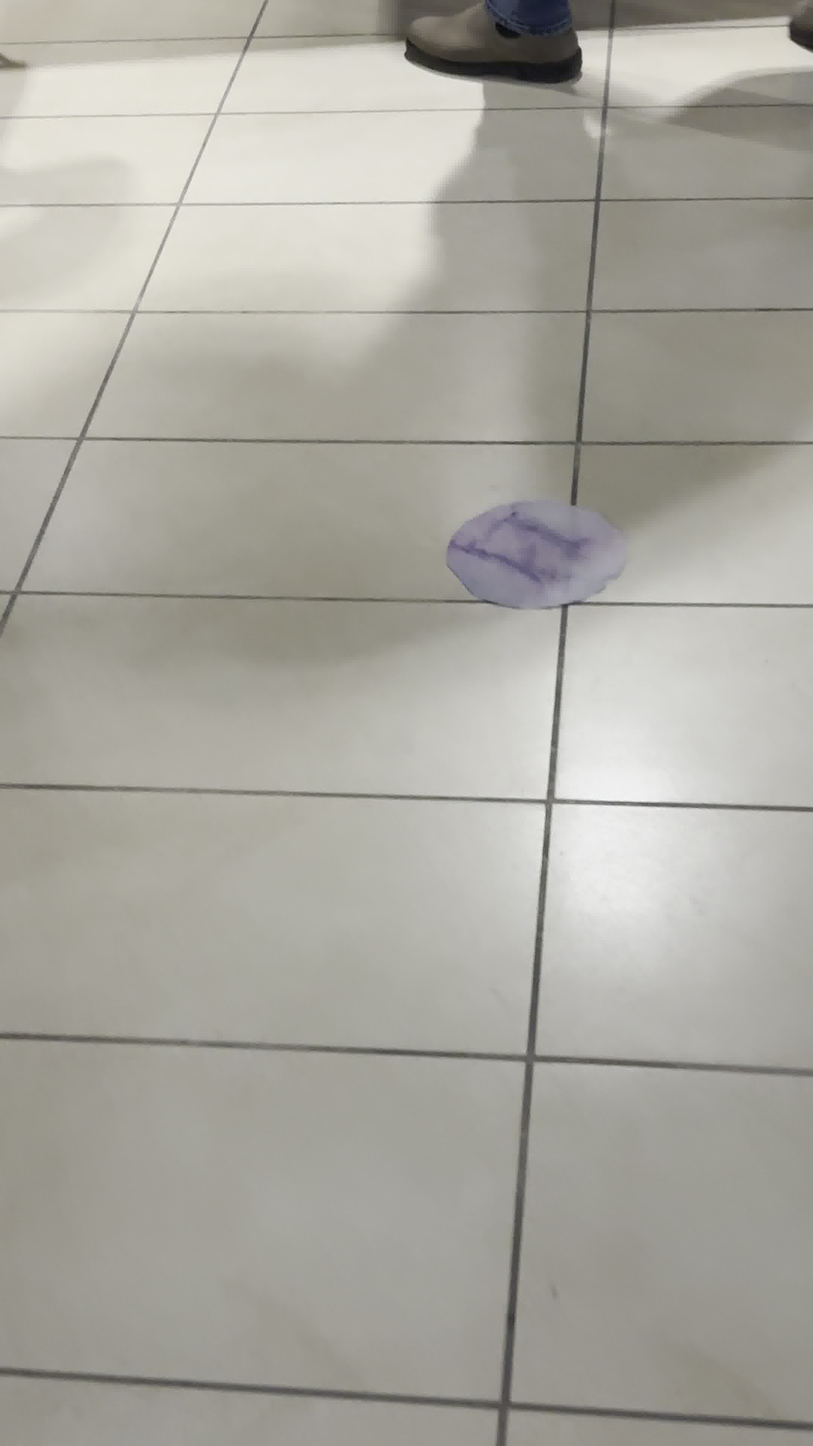Target: (446, 500, 629, 610)
